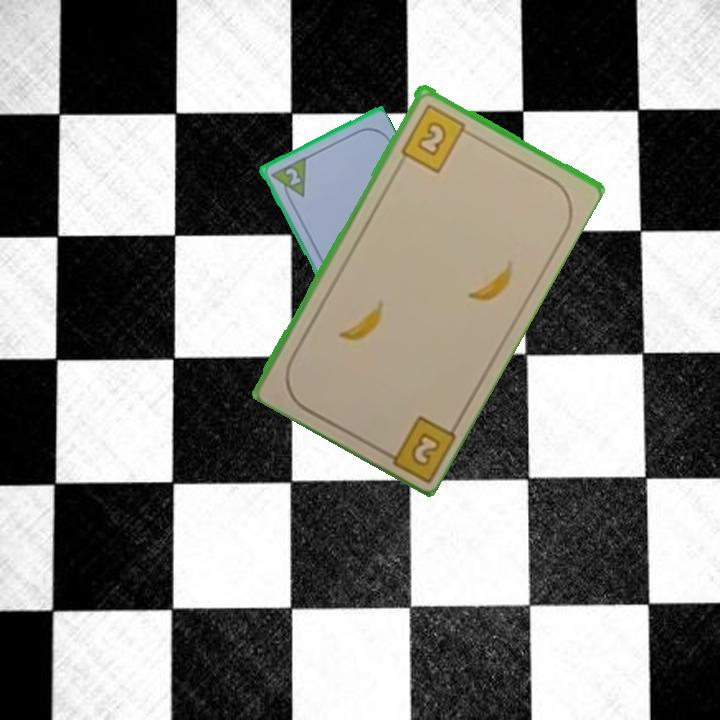2b: (396, 100, 475, 175), (375, 411, 458, 482)
2p: (266, 153, 309, 205)
